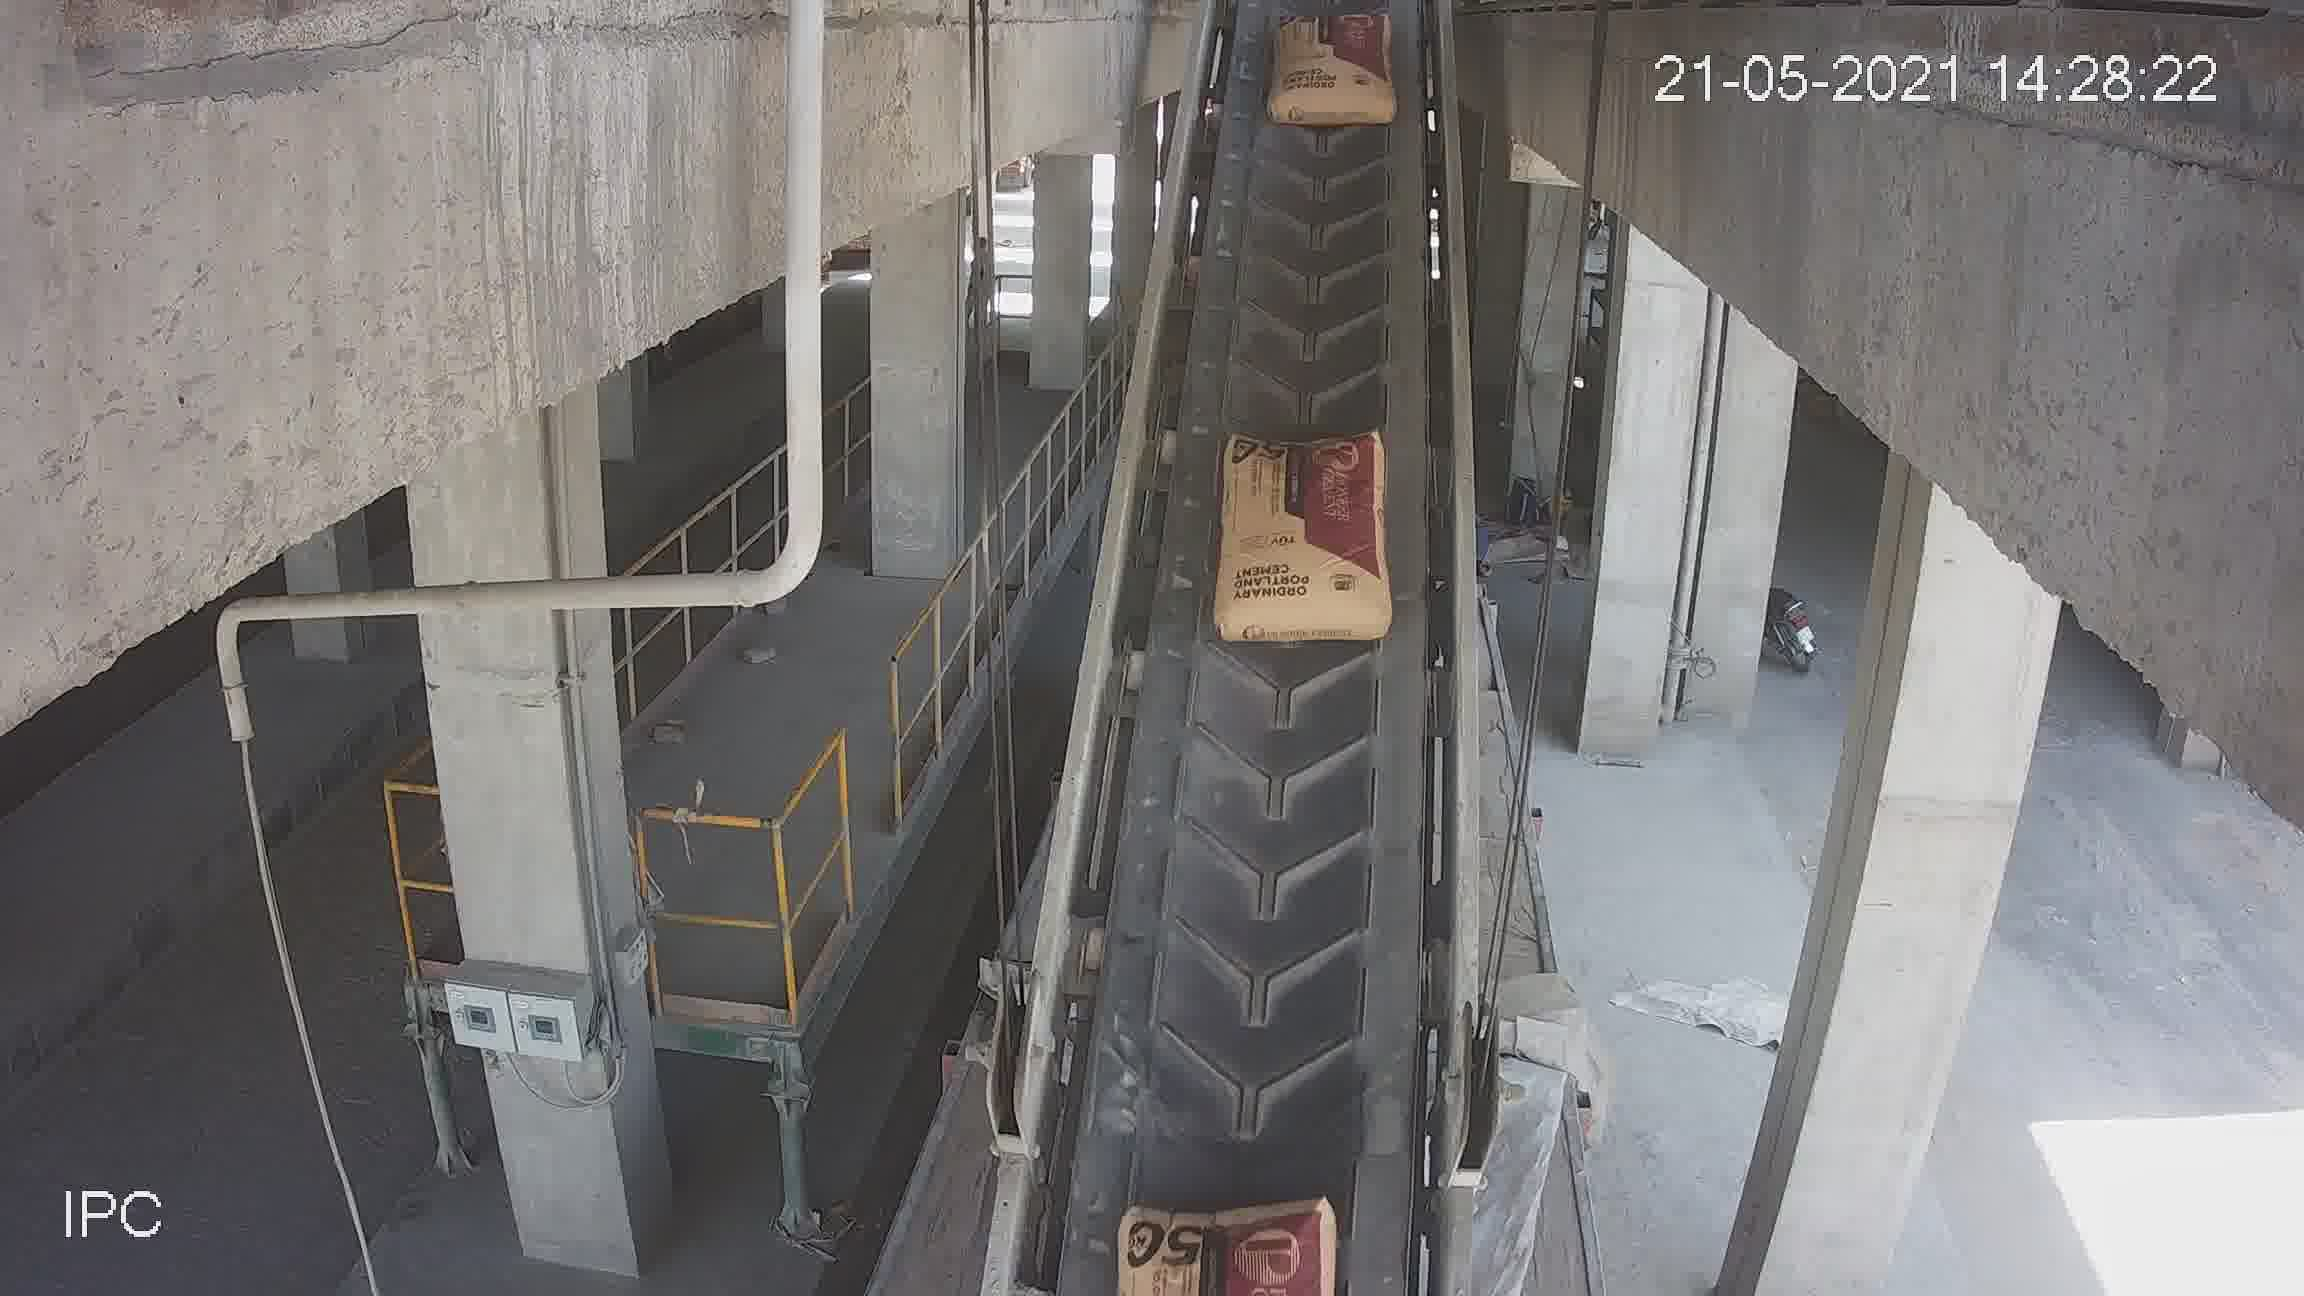bag: (1225, 430, 1388, 644), (1120, 1203, 1328, 1288), (1277, 21, 1385, 119)
belt: (1036, 32, 1486, 1283)
